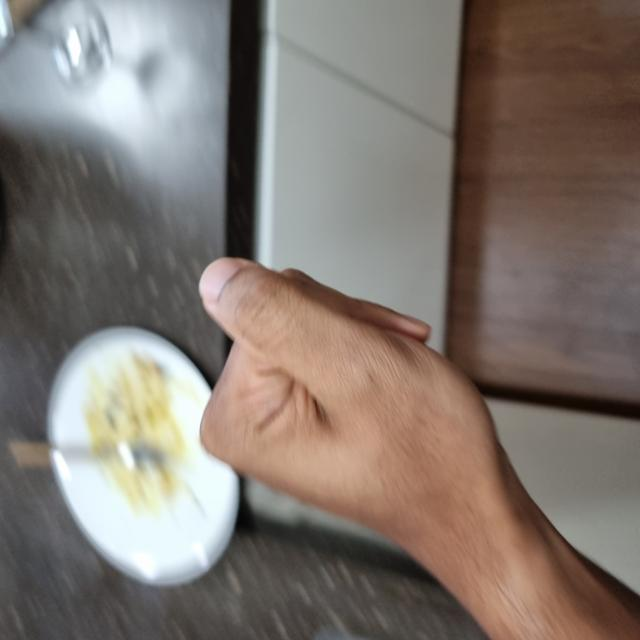Rock: (81, 200, 376, 506)
